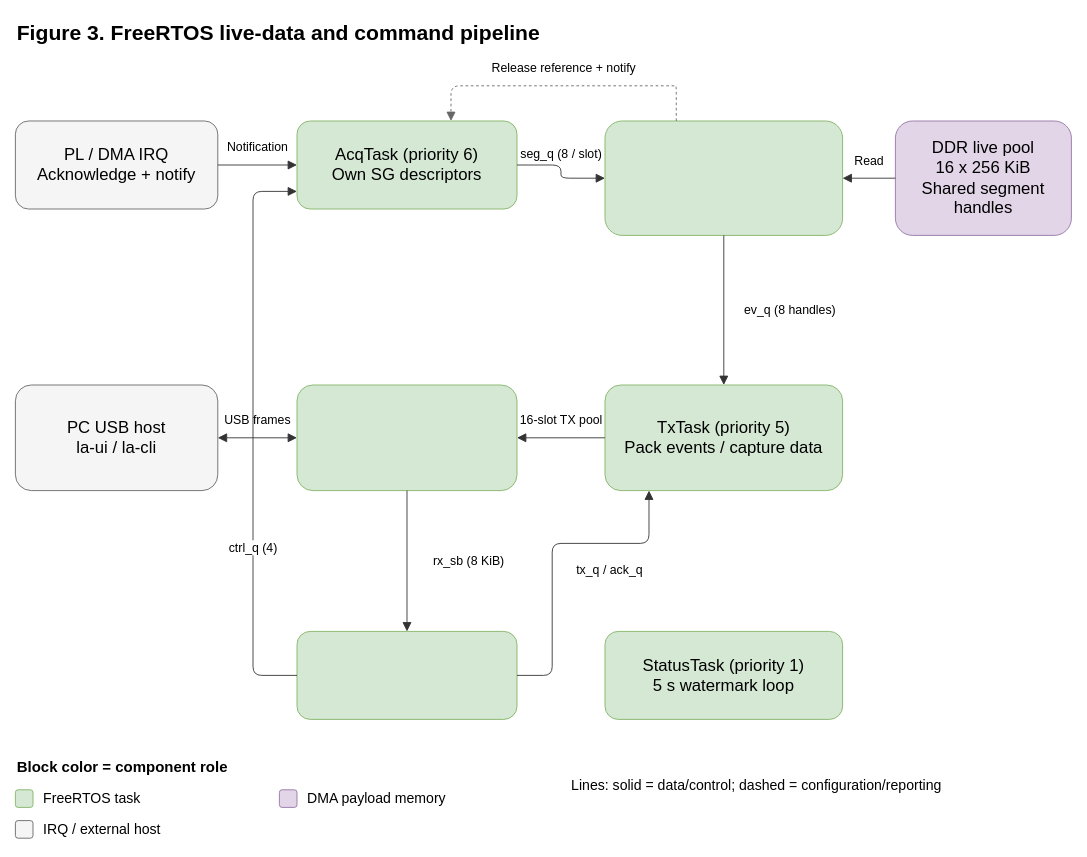
Image size: 1087x857. Some labels were removed from this diagram. Each missing label, with the centre of its shape:
"CmdTask (priority 5) Parse + validate requests" goes at [406,675].
"Decoder slots 0 / 1 / 2 Priority 5 UART, SPI or I2C" goes at [723,177].
"UsbTask (priority 5) Stage RX / submit TX" goes at [406,437].
